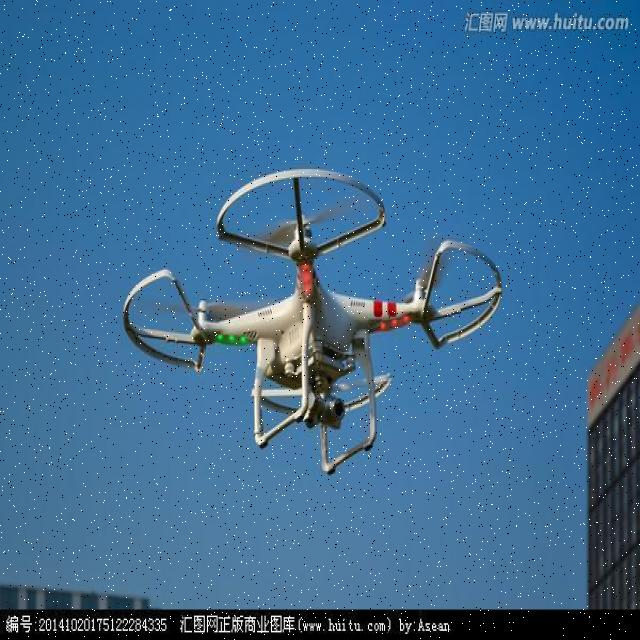UAV: (120, 163, 503, 474)
